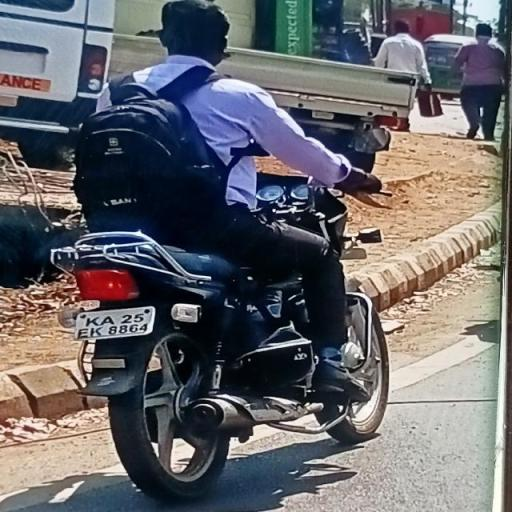bike: (41, 0, 399, 502)
numberplate: (75, 306, 155, 338)
withouthelmet: (160, 2, 230, 60)
